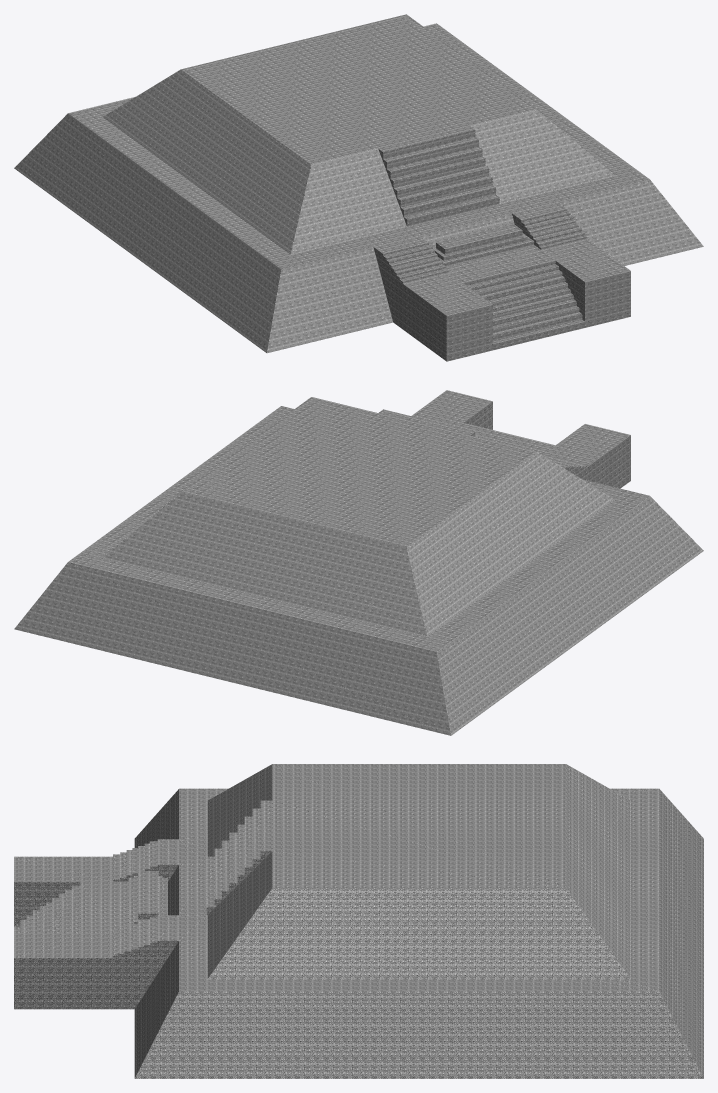
The model's file is Piramide_del_solMitad.fbx.
3 renders of one model, top to bottom at view 1: azimuth 30°, elevation 25°; view 2: azimuth 150°, elevation 25°; view 3: azimuth 270°, elevation 25°, orthographic. The views are drawn at different scales.
Parts seen in each view (by area): view 1: Group1; view 2: Group1; view 3: Group1.
Part boxes in pixels (x1,y1,x2,y2): Group1: (14,14,703,361); Group1: (14,390,703,735); Group1: (14,764,703,1078).
Bounding box in the file's own units: 5.92 × 1.53 × 7.18.
